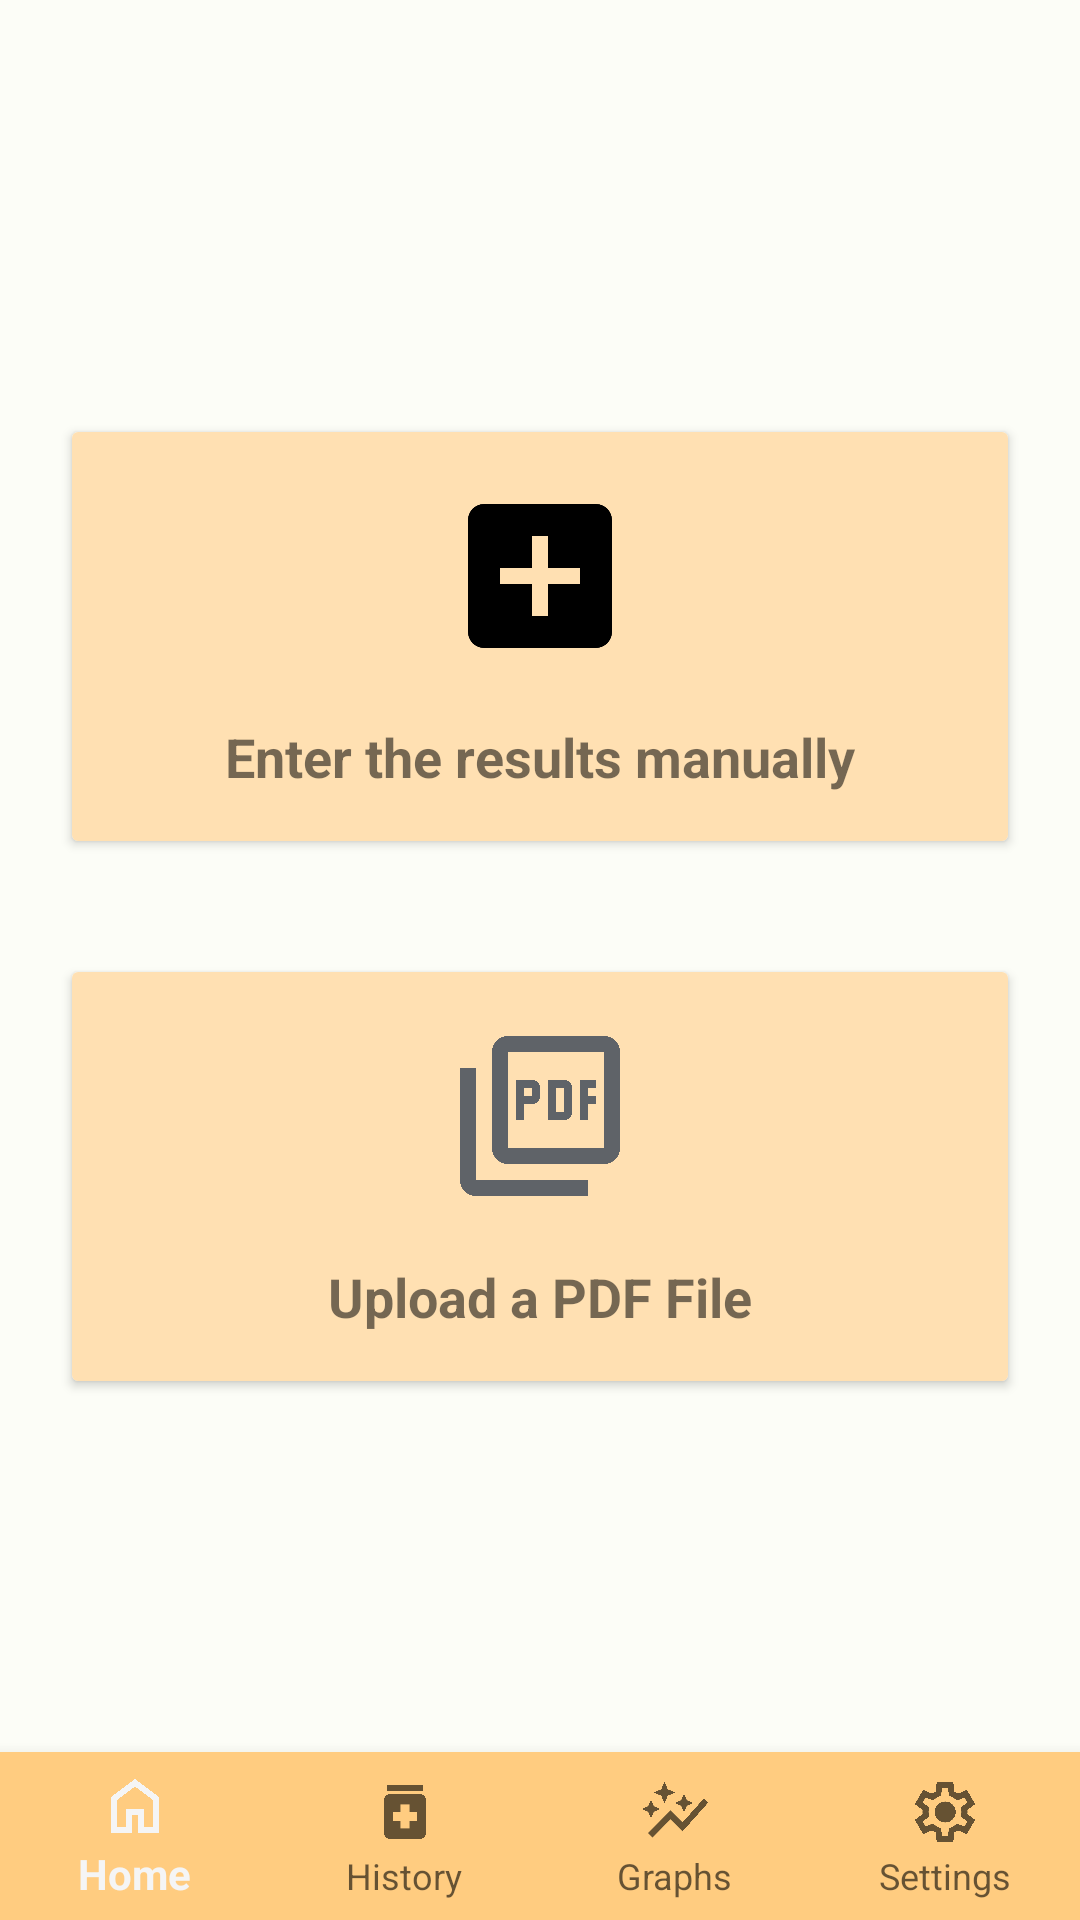

Locate icon controls on the screen. Image size 1080 x 1920, boxes as [x1=x1, y1=y1, x2=x2, y2=y2].
manual enter: [x1=468, y1=504, x2=612, y2=648]
